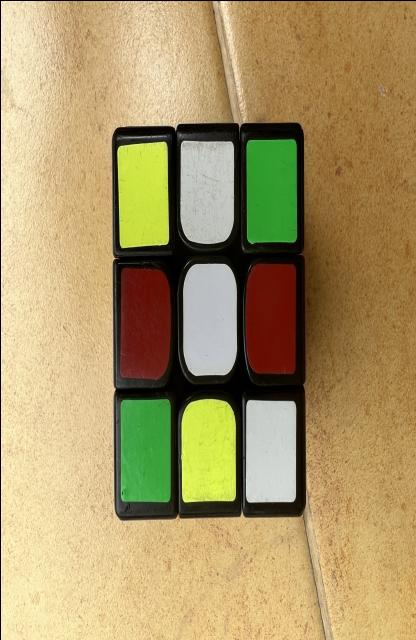Green: (245, 138, 297, 243), (119, 398, 170, 502)
Red: (119, 267, 170, 378), (245, 262, 295, 373)
White: (182, 262, 236, 375), (180, 140, 233, 243), (245, 398, 296, 502)
Yellow: (180, 398, 235, 502), (116, 140, 168, 247)
